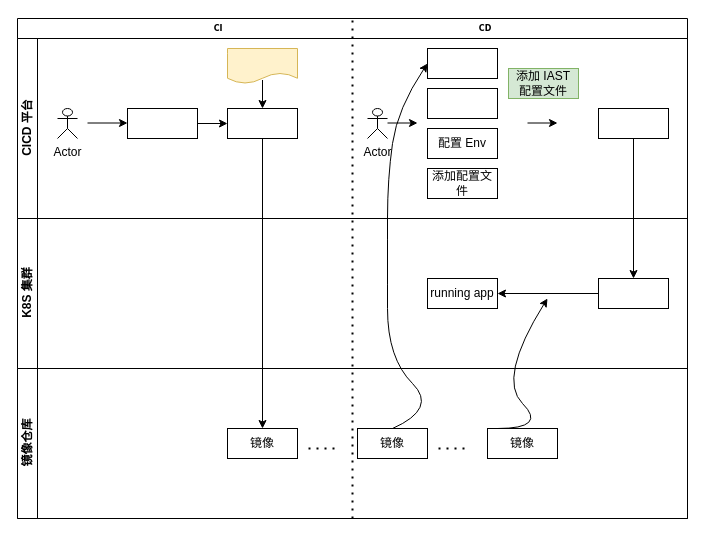
Image size: 705x537. Some labels were removed from this diagram. The centre of each missing label's shape, as x and y in pixels:
build config with iast: (262,66)
构建: (262,123)
构建镜像: (162,123)
生成 chart 文件: (633,123)
选择镜像: (462,63)
部署: (633,293)
配置initcontainer: (462,103)
